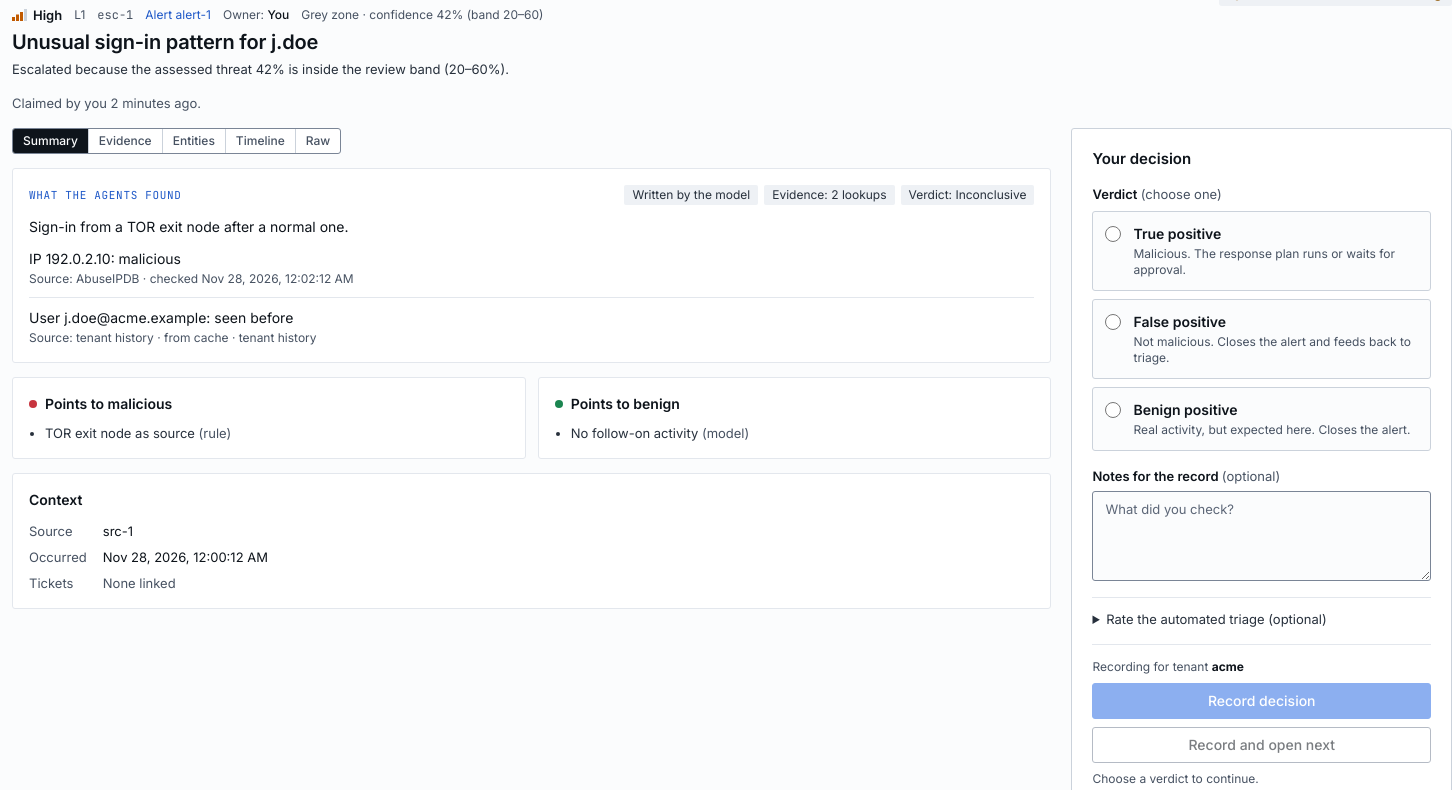
Test: decision form › keeps the input on a 409 and explains the change
Check: the heading "Unusual sign-in pattern for j.doe" is shown, box [12,30,318,54]
Click the radio button labelled "False positive" at {"x": 1114, "y": 322}, box [1106,314,1122,330]
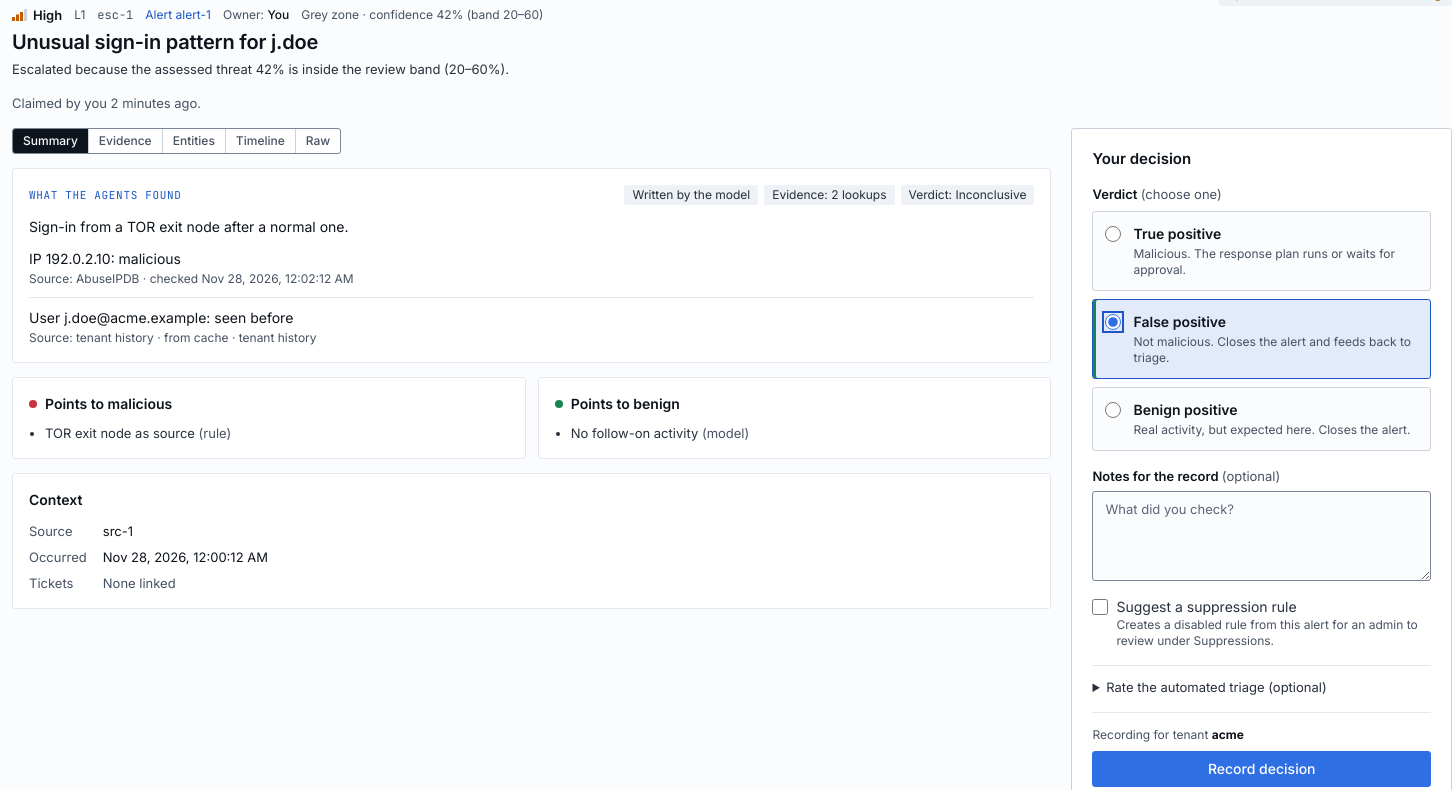
Type "Known VPN." into the text box labelled "Notes for the record (optional)" at {"x": 1262, "y": 536}, box [1092,491,1431,581]
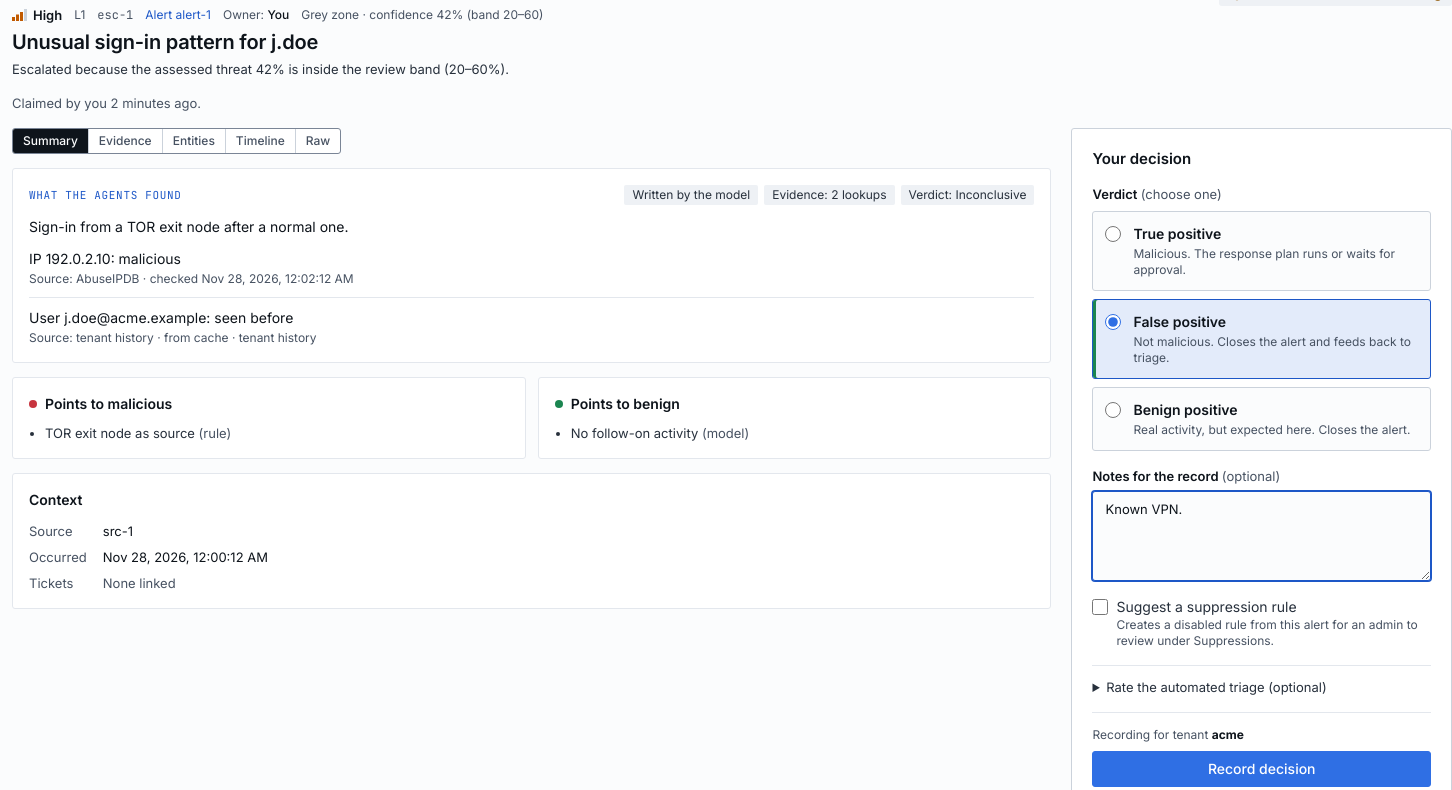
Click the button "Record decision" at {"x": 1262, "y": 769}, box [1092,751,1431,787]
(page scrolled)
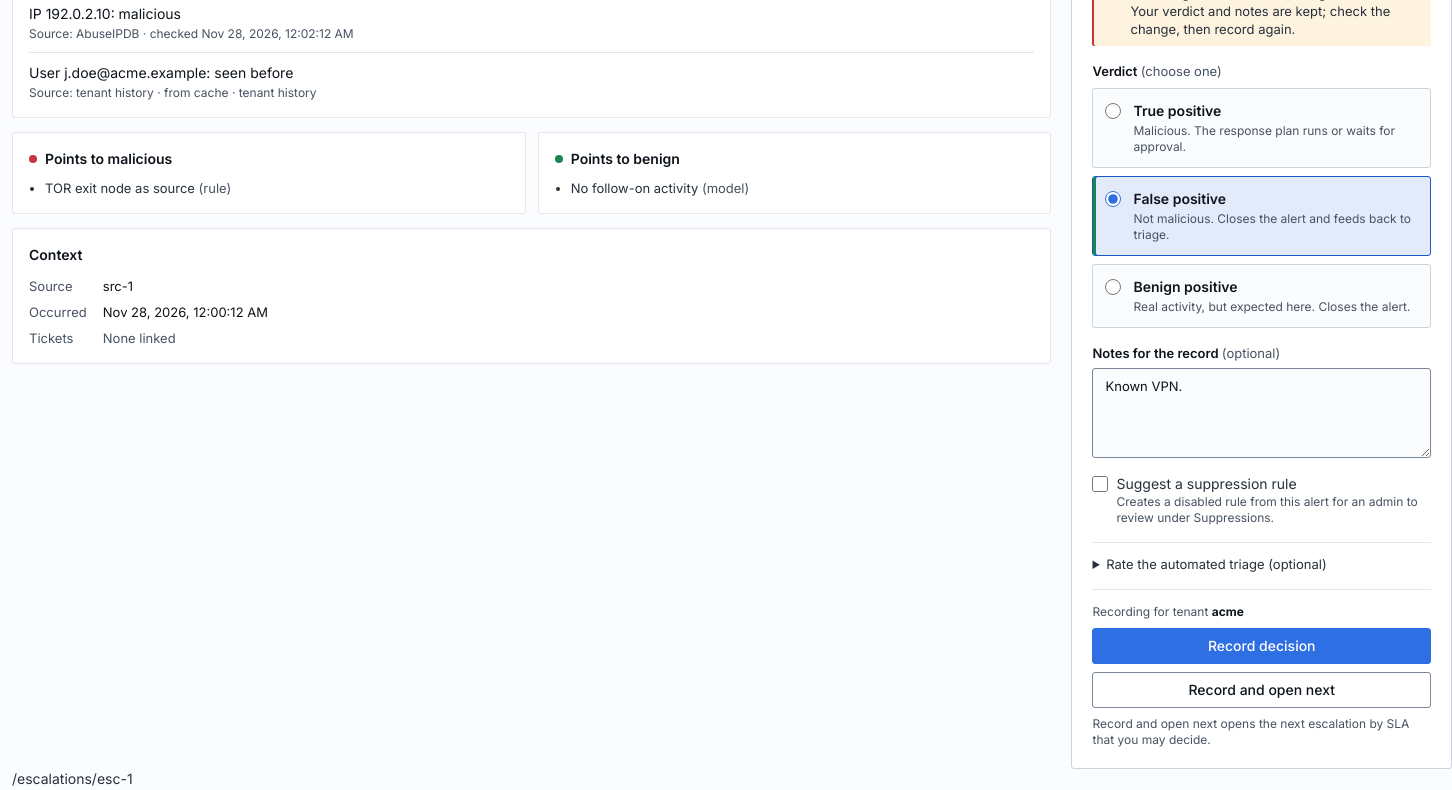
Check: the radio button labelled "False positive" is checked, box [1106,191,1122,207]
Click the button "Record decision" at {"x": 1262, "y": 646}, box [1092,628,1431,664]
(page scrolled)
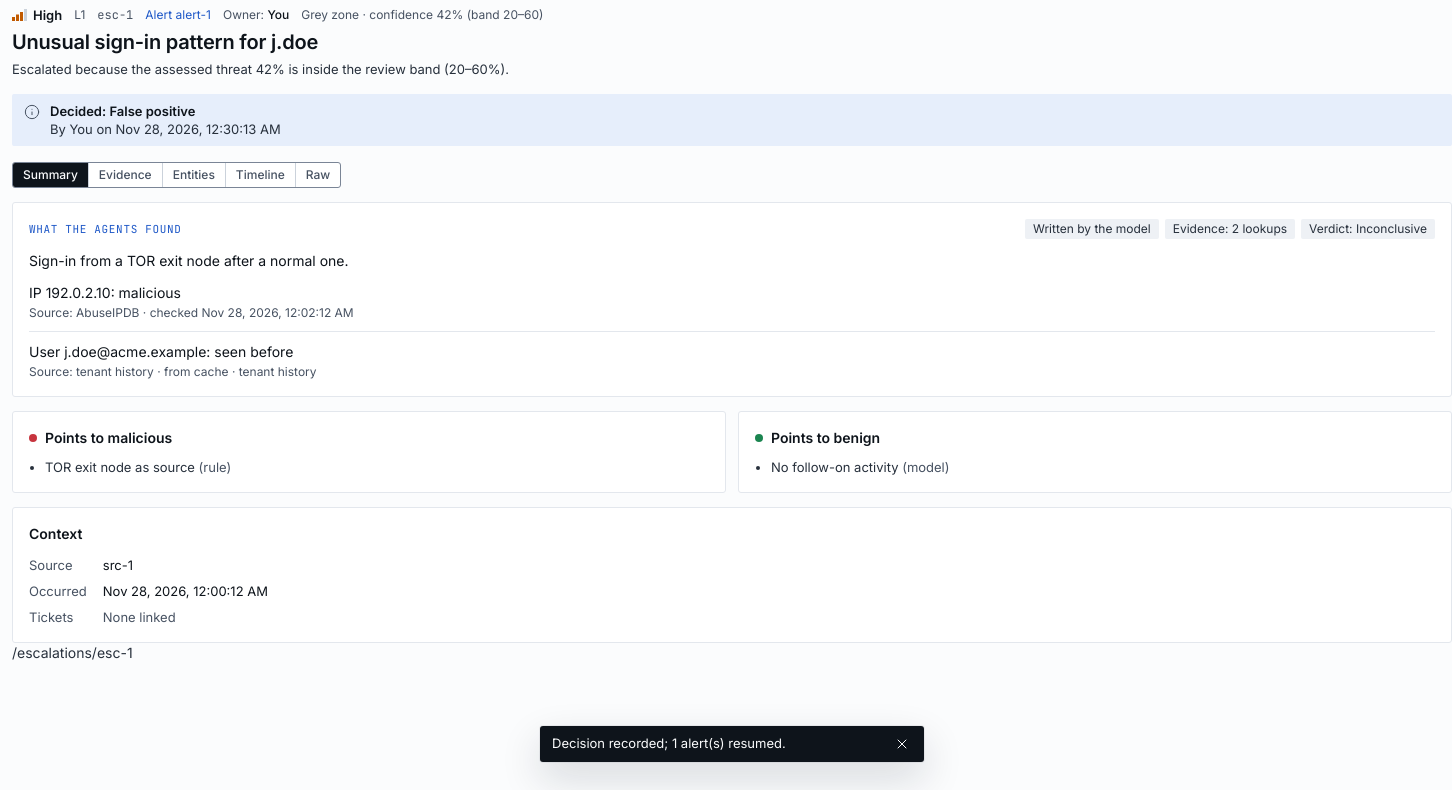
Check: the text "Decision recorded; 1 alert(s) resumed." is shown, box [552,735,786,751]
